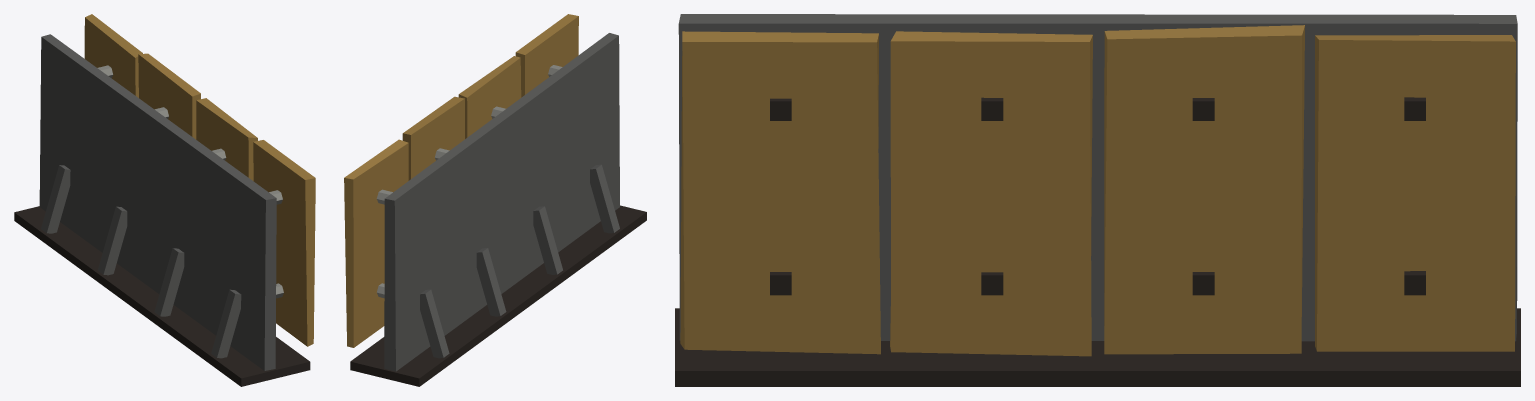
Rendered from arm_spaced.glb.
3 views of the same model, side by side, from view 1: azimuth 30°, elevation 25°; view 2: azimuth 150°, elevation 25°; view 3: azimuth 270°, elevation 25° (orthographic). The views are drawn at different scales.
Parts seen in each view (by area): view 1: arm_spaced; view 2: arm_spaced; view 3: arm_spaced.
Part boxes in pixels (left/top/right/bottom): arm_spaced: left=14, top=14, right=315, bottom=386; arm_spaced: left=344, top=14, right=646, bottom=386; arm_spaced: left=675, top=14, right=1520, bottom=386.
Size of the model in its own units: 0.39 by 0.9113 by 1.94.
